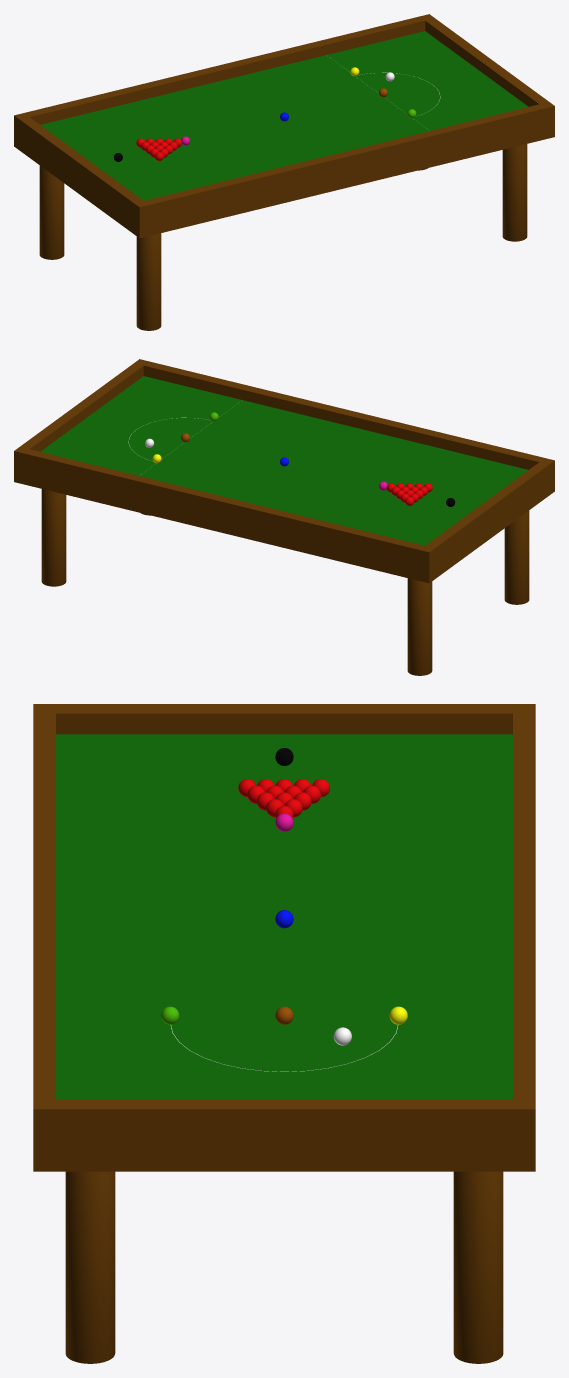
File: Snooker_Table.glb
The picture shows the model from 3 angles, top to bottom: view 1: azimuth 30°, elevation 25°; view 2: azimuth 150°, elevation 25°; view 3: azimuth 270°, elevation 25°; orthographic projection. The views are drawn at different scales.
Parts seen in each view (by area): view 1: Cube, Cube.001, Cube.002, Cube.004, Cylinder.006, Cylinder.004, Cube.003, Cylinder.005; view 2: Cube, Cube.002, Cube.001, Cube.004, Cylinder.005, Cylinder.001, Cube.003, Cylinder.006; view 3: Cube, Cube.003, Cube.004, Cube.001, Cube.002, Cylinder.004, Cylinder.001.
Boxes of the visible parts, x1=… form: Cube: x1=40, y1=31, x2=528, y2=200; Cube.001: x1=134, y1=102, x2=554, y2=238; Cube.002: x1=14, y1=14, x2=434, y2=150; Cube.004: x1=19, y1=117, x2=143, y2=233; Cylinder.006: x1=136, y1=233, x2=161, y2=330; Cylinder.004: x1=502, y1=144, x2=527, y2=241; Cube.003: x1=425, y1=18, x2=548, y2=106; Cylinder.005: x1=39, y1=165, x2=64, y2=259; Cube: x1=40, y1=376, x2=528, y2=545; Cube.002: x1=14, y1=447, x2=434, y2=583; Cube.001: x1=134, y1=359, x2=554, y2=495; Cube.004: x1=425, y1=462, x2=549, y2=578; Cylinder.005: x1=407, y1=578, x2=432, y2=675; Cylinder.001: x1=41, y1=489, x2=66, y2=586; Cube.003: x1=20, y1=363, x2=143, y2=451; Cylinder.006: x1=504, y1=510, x2=529, y2=604; Cube: x1=56, y1=734, x2=512, y2=1099; Cube.003: x1=56, y1=1099, x2=512, y2=1171; Cube.004: x1=56, y1=704, x2=512, y2=734; Cube.001: x1=33, y1=704, x2=55, y2=1171; Cube.002: x1=513, y1=704, x2=535, y2=1171; Cylinder.004: x1=65, y1=1171, x2=115, y2=1363; Cylinder.001: x1=453, y1=1171, x2=503, y2=1363.
Size of the model in its own units: 4.2 by 1.3 by 2.2.
